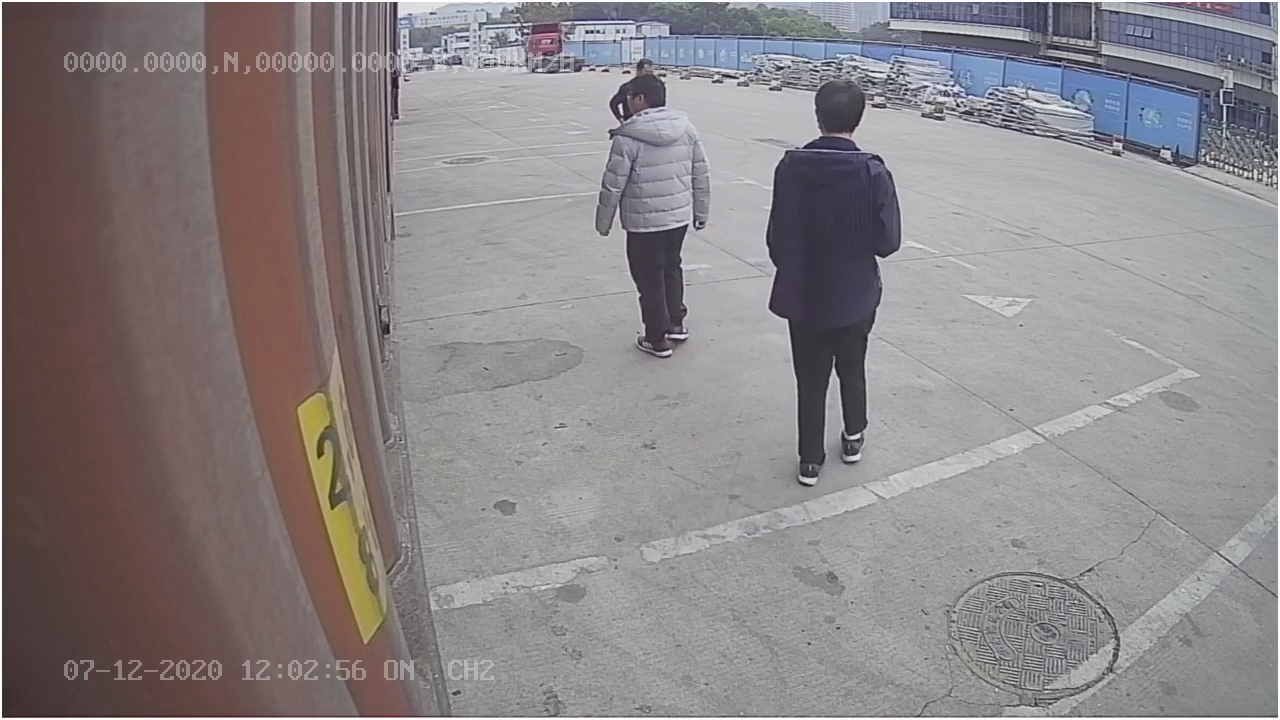person: (763, 75, 901, 487)
